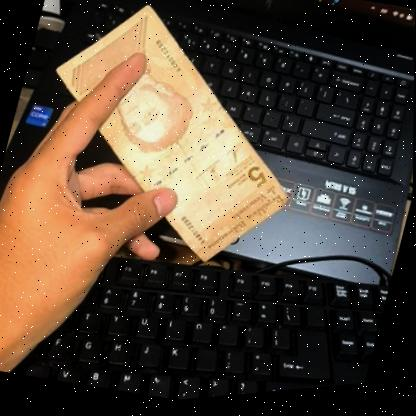five-front-vef: (12, 0, 335, 295)
